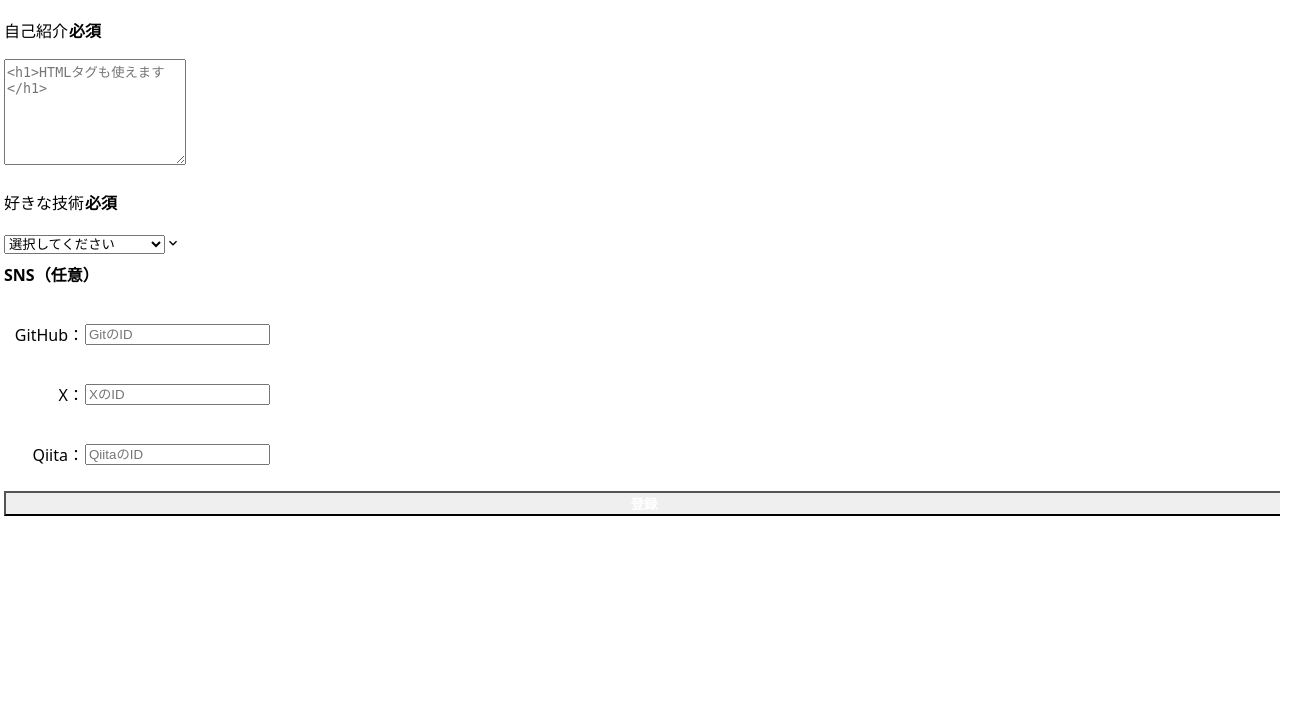
Test: 名刺カードのテスト › IDがないときにエラーメッセージがでる
(page scrolled)
Step 1. Click the button with test id "registerSubmitButton" → {"x": 642, "y": 503}, box [4,491,1280,516]
(page scrolled)
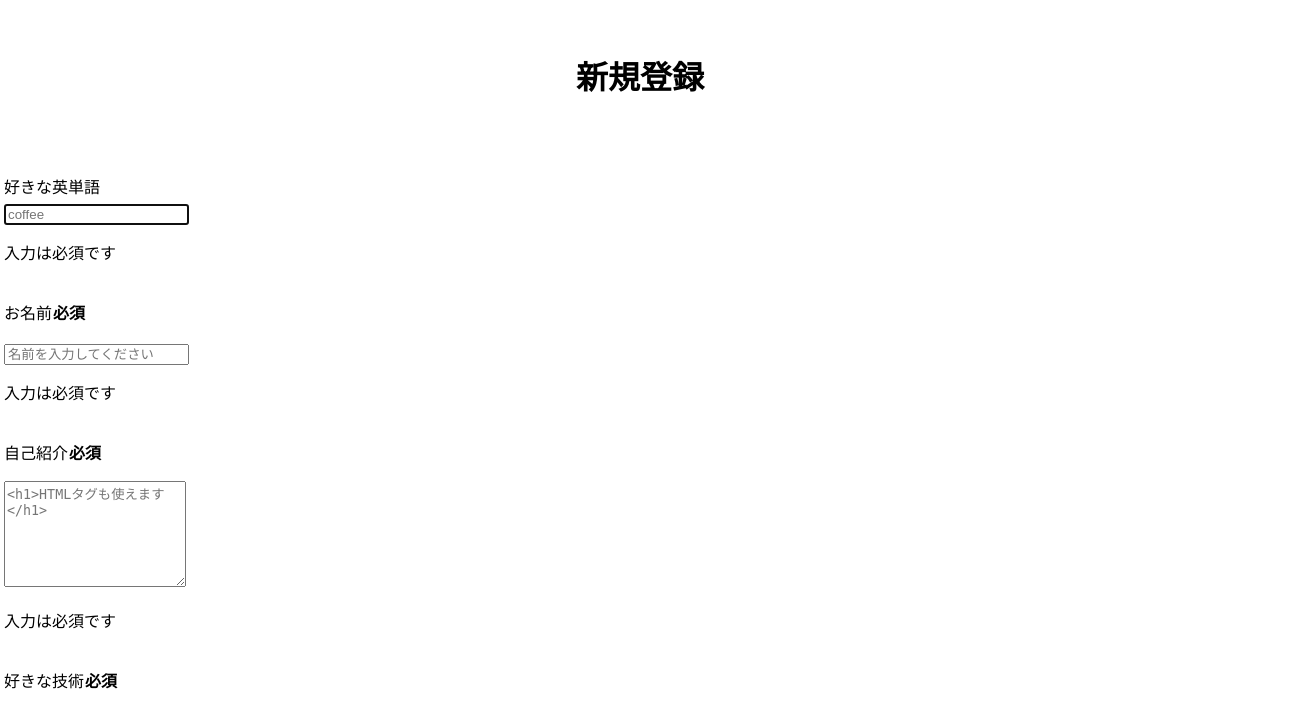
Expected: the text with test id "userIdError" is shown, [4,242,116,264]
